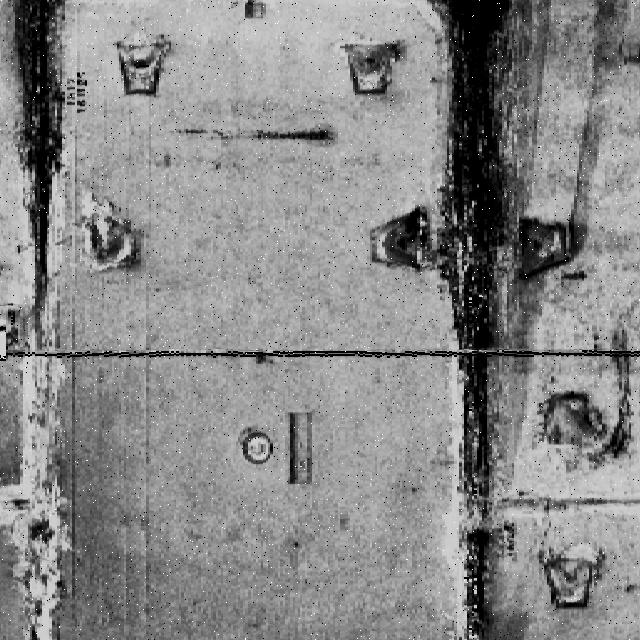leakage: (424, 1, 546, 638), (1, 0, 66, 633)
